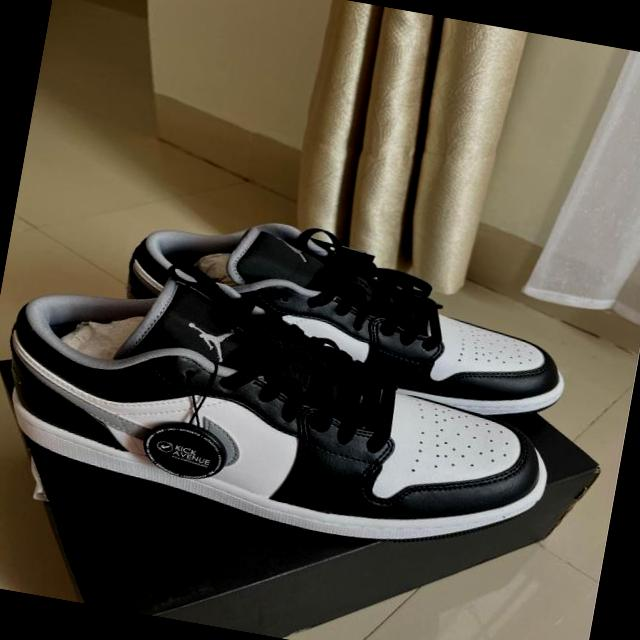nike_original_jordan: (0, 250, 576, 571), (113, 197, 588, 430)
